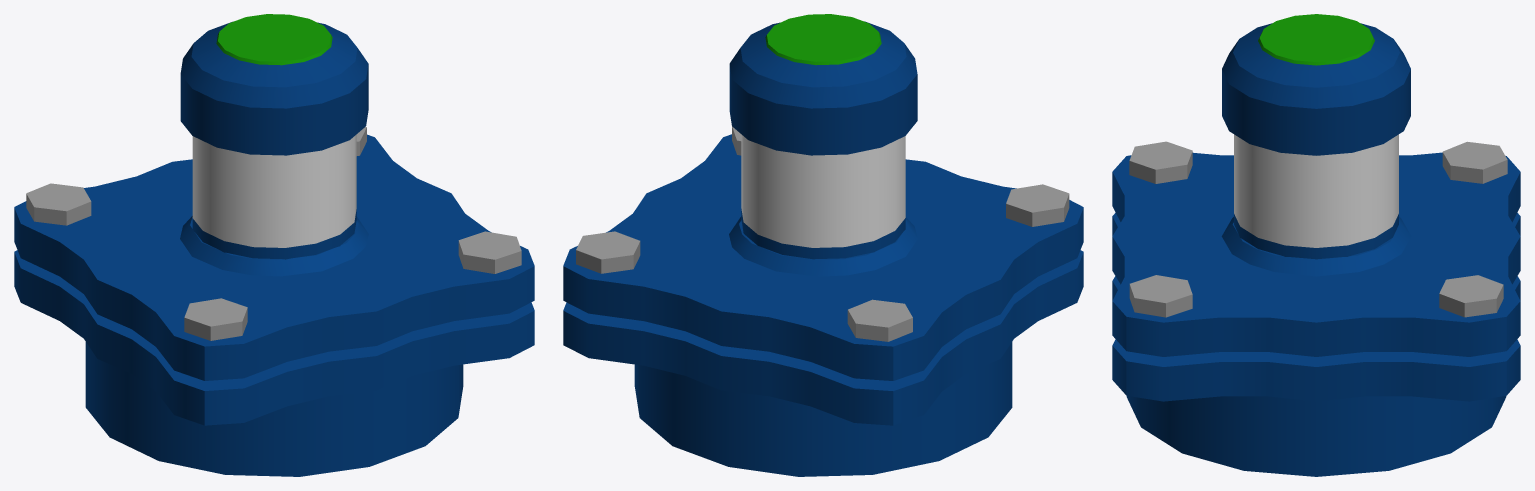
Rendered from ReducerTrash.fbx.
3 views of the same model, side by side, from view 1: azimuth 30°, elevation 25°; view 2: azimuth 150°, elevation 25°; view 3: azimuth 270°, elevation 25° (orthographic).
Parts seen in each view (by area): view 1: pCube1, pCylinder1, pCube2, pCylinder6, pCylinder2, pCylinder3, pCylinder4; view 2: pCube1, pCylinder1, pCube2, pCylinder6, pCylinder2, pCylinder5, pCylinder3; view 3: pCube1, pCylinder1, pCylinder6, pCube2, pCylinder2, pCylinder5, pCylinder3, pCylinder4.
Boxes of the visible parts, bbox=[...] form: pCube1: bbox=[14, 134, 534, 380]; pCylinder1: bbox=[85, 134, 463, 476]; pCube2: bbox=[14, 250, 534, 425]; pCylinder6: bbox=[180, 14, 368, 155]; pCylinder2: bbox=[26, 183, 91, 225]; pCylinder3: bbox=[184, 298, 247, 340]; pCylinder4: bbox=[458, 231, 521, 273]; pCube1: bbox=[563, 134, 1083, 380]; pCylinder1: bbox=[634, 134, 1012, 476]; pCube2: bbox=[563, 250, 1083, 425]; pCylinder6: bbox=[729, 14, 917, 155]; pCylinder2: bbox=[847, 299, 912, 341]; pCylinder5: bbox=[576, 231, 640, 273]; pCylinder3: bbox=[1006, 184, 1069, 226]; pCube1: bbox=[1112, 152, 1520, 356]; pCylinder1: bbox=[1126, 134, 1506, 476]; pCylinder6: bbox=[1222, 14, 1410, 155]; pCube2: bbox=[1112, 213, 1520, 401]; pCylinder2: bbox=[1442, 141, 1507, 183]; pCylinder5: bbox=[1439, 275, 1503, 317]; pCylinder3: bbox=[1129, 141, 1192, 183]; pCylinder4: bbox=[1129, 275, 1192, 317].
Size of the model in its own units: 3.61 by 3.5 by 3.61.
